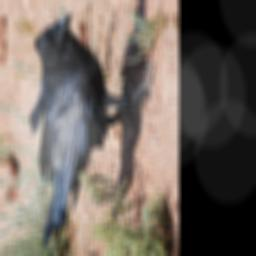Crow: (25, 10, 162, 251)
